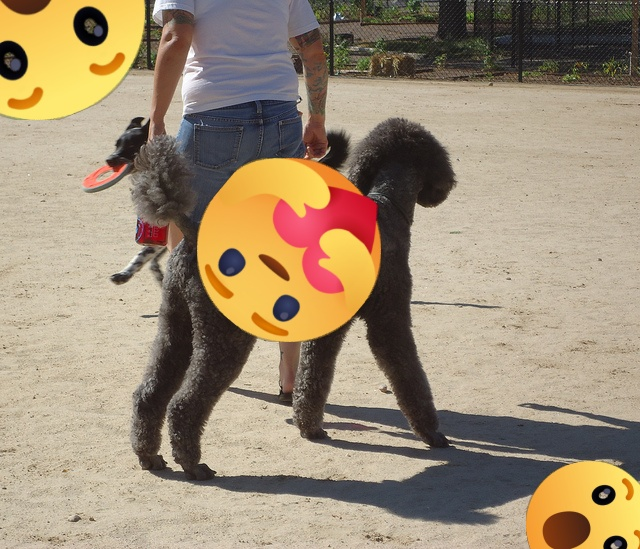care: (197, 158, 381, 342)
wow: (0, 0, 145, 120), (526, 461, 640, 549)
